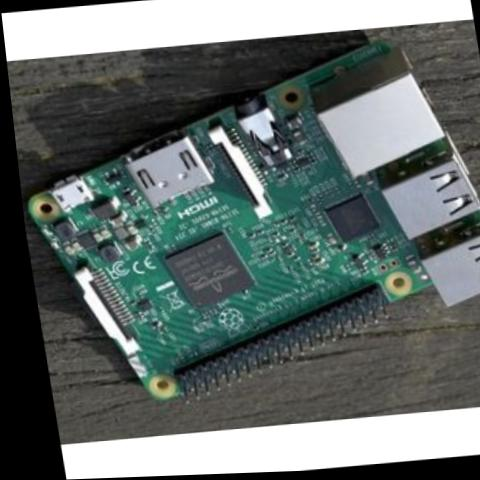Raspberry-Pi-3-Model-B: (4, 32, 480, 419)
